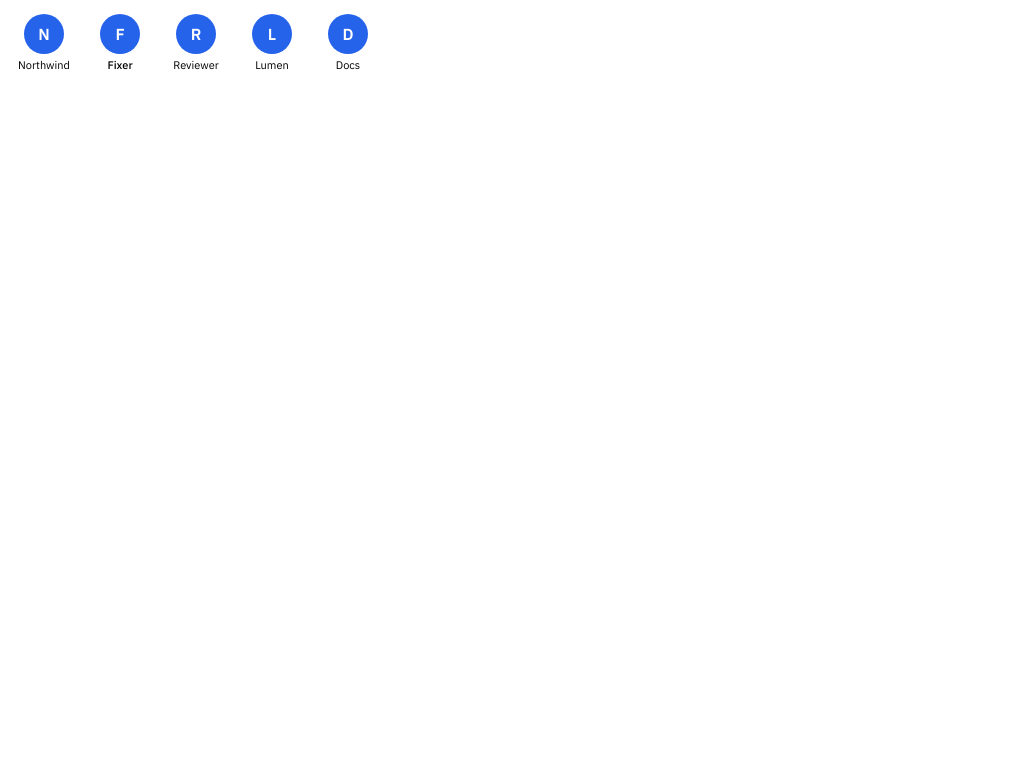
Scenario: the row of agents › says when the hub refuses to open a chat, and nothing opens
Click the button with aria-label "Chat với Docs" at x=348, y=43, box [312,8,384,78]
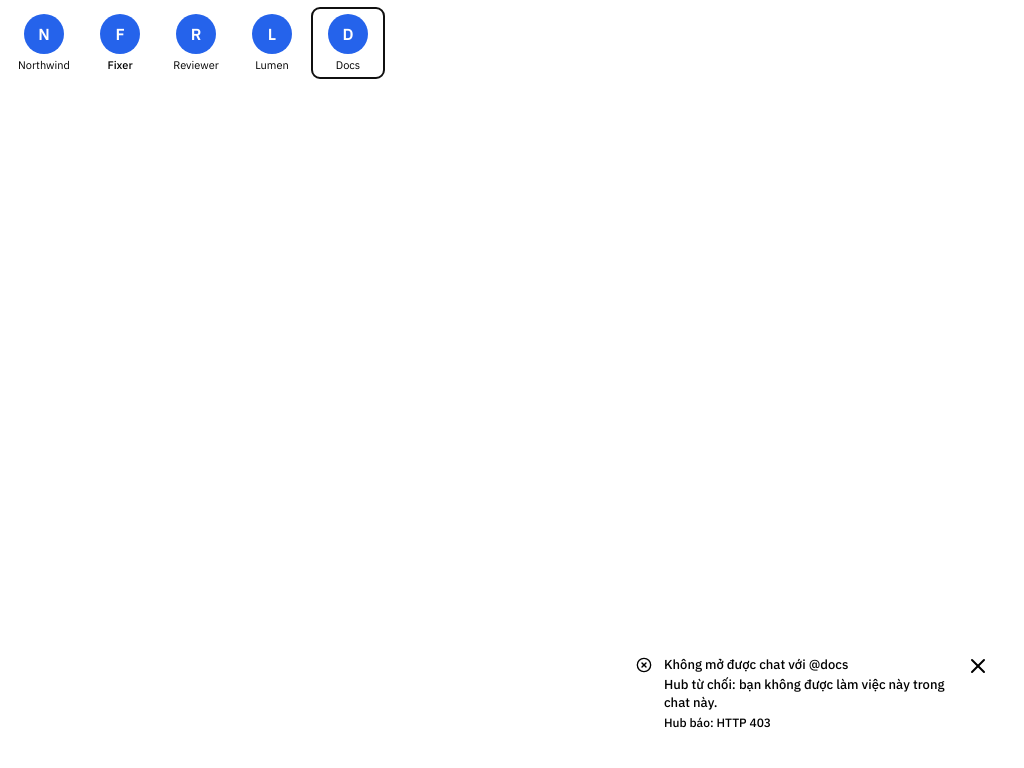
Check: the text "Không mở được chat với @docs" is shown, box [664,656,848,673]
